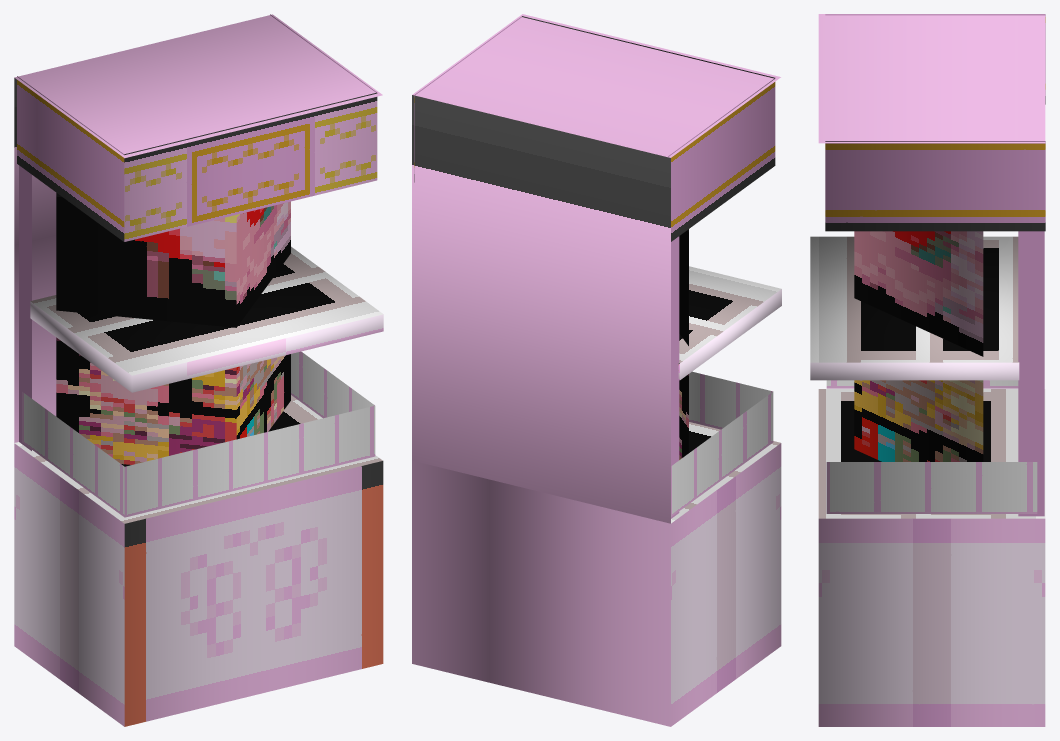
3 views of the same model, side by side, from view 1: azimuth 30°, elevation 25°; view 2: azimuth 150°, elevation 25°; view 3: azimuth 270°, elevation 25° (orthographic). The views are drawn at different scales.
Parts seen in each view (by area): view 1: 3810kg_sh1_33; view 2: 3810kg_sh1_33; view 3: 3810kg_sh1_33.
Boxes of the visible parts, bbox=[...] form: 3810kg_sh1_33: bbox=[14, 14, 383, 726]; 3810kg_sh1_33: bbox=[412, 14, 781, 726]; 3810kg_sh1_33: bbox=[810, 14, 1045, 726].
Bounding box in the file's own units: 0.9502 × 2 × 0.729.
Materials: 4 (4 with a texture image).
